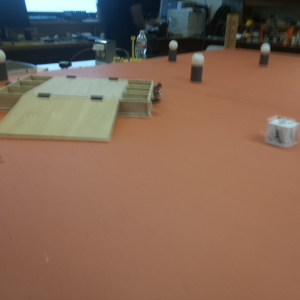obstacle: (191, 49, 204, 90), (168, 40, 180, 64), (260, 41, 270, 68)
side: (121, 77, 168, 118), (3, 69, 52, 90)
slope: (12, 93, 115, 135)
